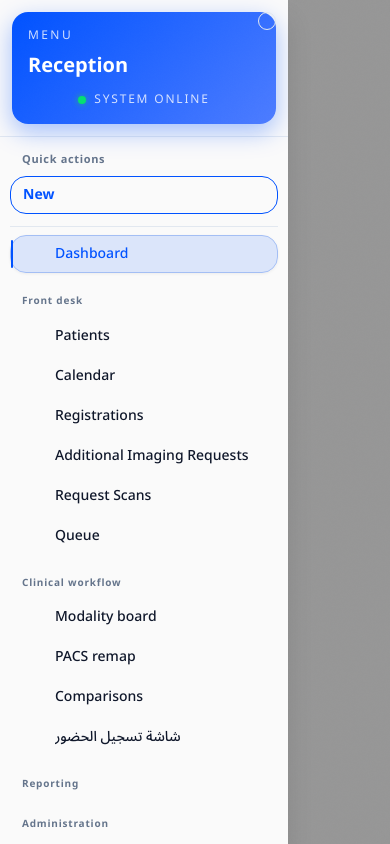
Scenario: Navigation governance › keeps administration entries inside the mobile Administration group
Click the button "Administration". click: (65, 823)
box: 10,812 -> 278,835
(page scrolled)
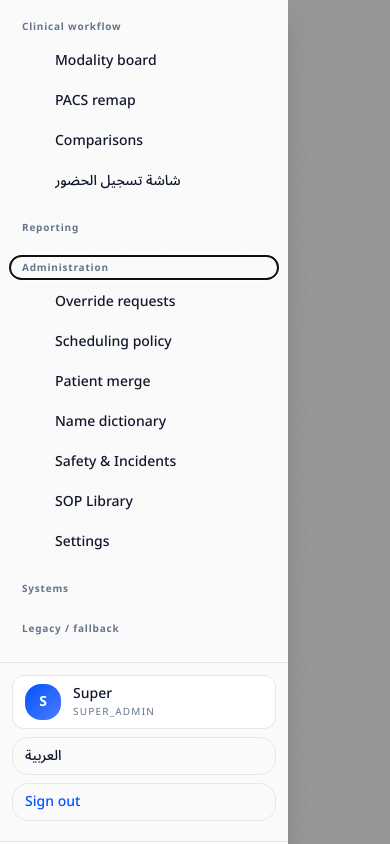
Check: the button "Override requests" is shown, box 10,283 -> 278,321
Check: the button "Scheduling policy" is shown, box 10,323 -> 278,361
Check: the button "Patient merge" is shown, box 10,363 -> 278,401
